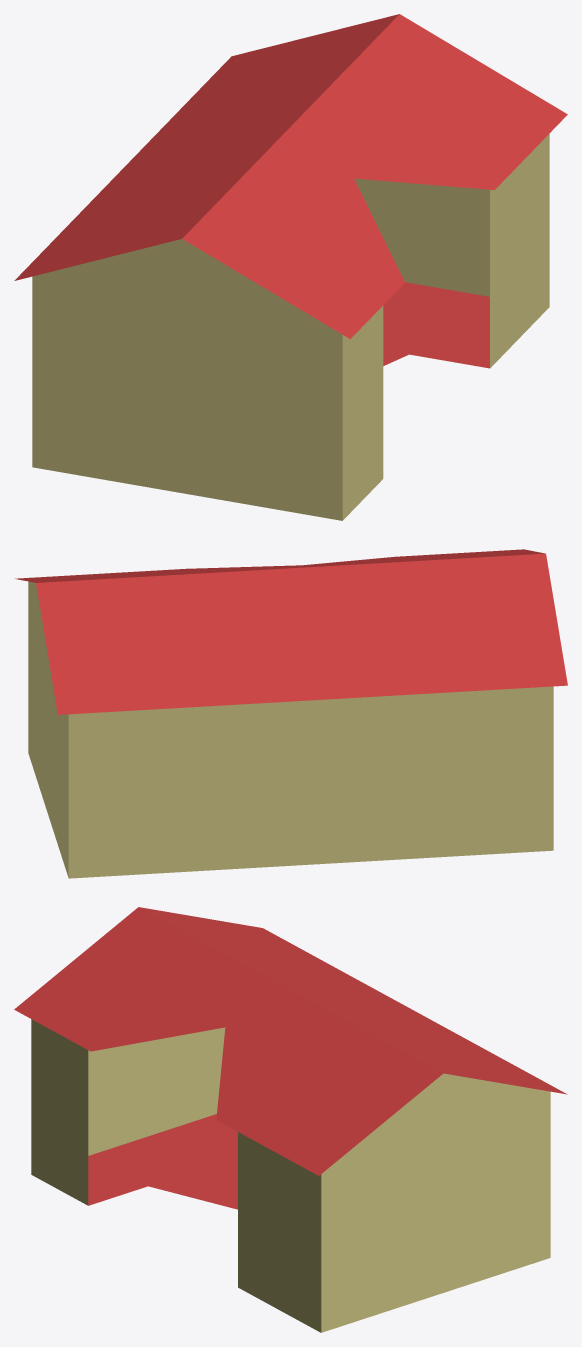
The picture shows the model from 3 angles, top to bottom: view 1: azimuth 30°, elevation 25°; view 2: azimuth 150°, elevation 25°; view 3: azimuth 270°, elevation 25°; orthographic projection. The views are drawn at different scales.
Size of the model in its own units: 23.94 by 22.6 by 10.17.
